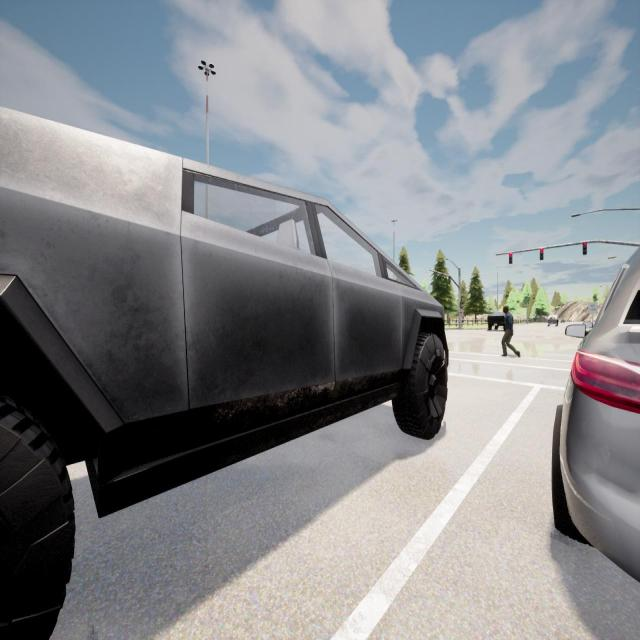Pedestrian: (502, 306, 520, 358)
Traffic_Signs: (588, 303, 597, 313), (458, 310, 464, 317)
Vehicle: (0, 108, 449, 630), (550, 245, 640, 583), (488, 311, 503, 331), (548, 315, 558, 325)
traffic_light: (583, 242, 587, 255), (540, 248, 544, 260), (440, 274, 444, 284), (447, 276, 451, 286), (509, 253, 512, 264), (460, 300, 463, 309), (434, 272, 437, 280)
